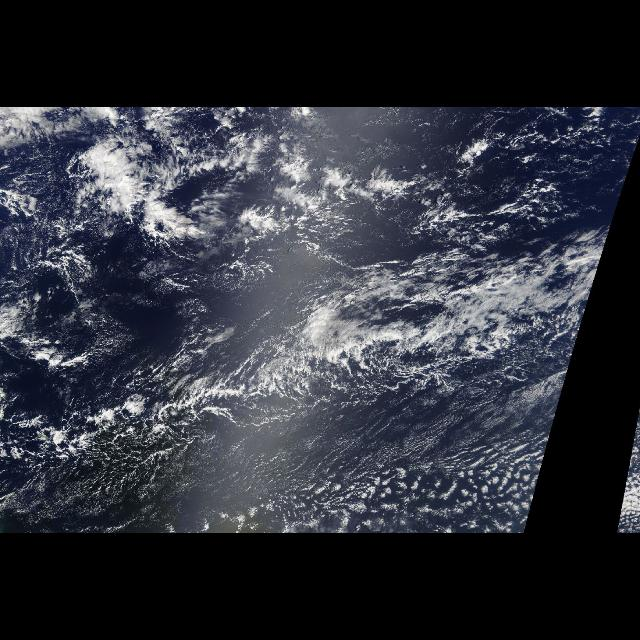Fish: (139, 129, 599, 439)
Gravel: (236, 446, 540, 526)
Sugar: (260, 432, 552, 534)
